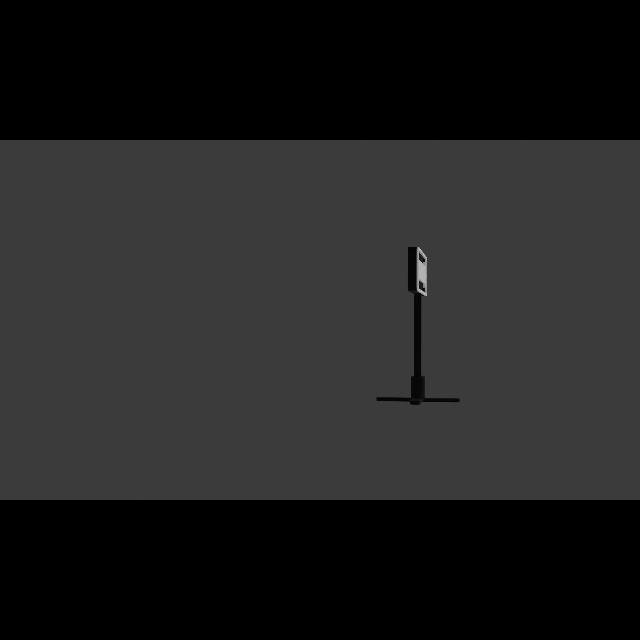sign_oneway_right: (408, 247, 428, 298)
